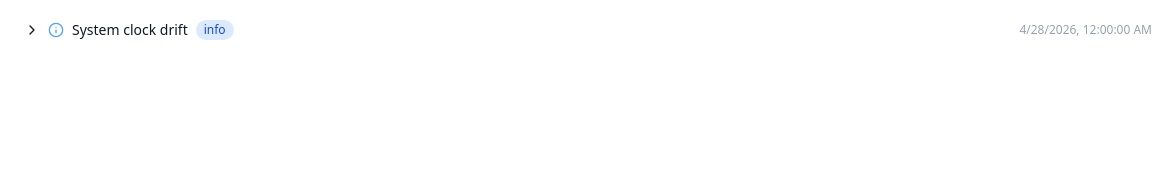
Test: HealthChecksTab › expands the payload only after the row is clicked
This screenshot has width=1176, height=172.
Expected: the text "System clock drift" is shown, [72,20,188,40]
Expected: the text "0.123s" is not shown
Click the button "System clock drift info 4/28/2026, 12:00:00 AM".
click(130, 30)  # box [12,12,1164,48]
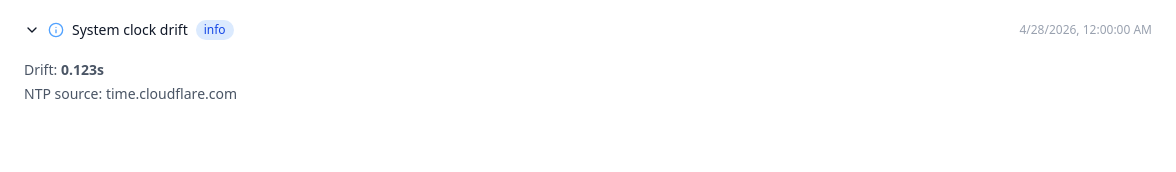
Expected: the text "0.123s" is shown, [61,60,104,79]
Expected: the text "NTP source: time.cloudflare.com" is shown, [24,84,237,103]
